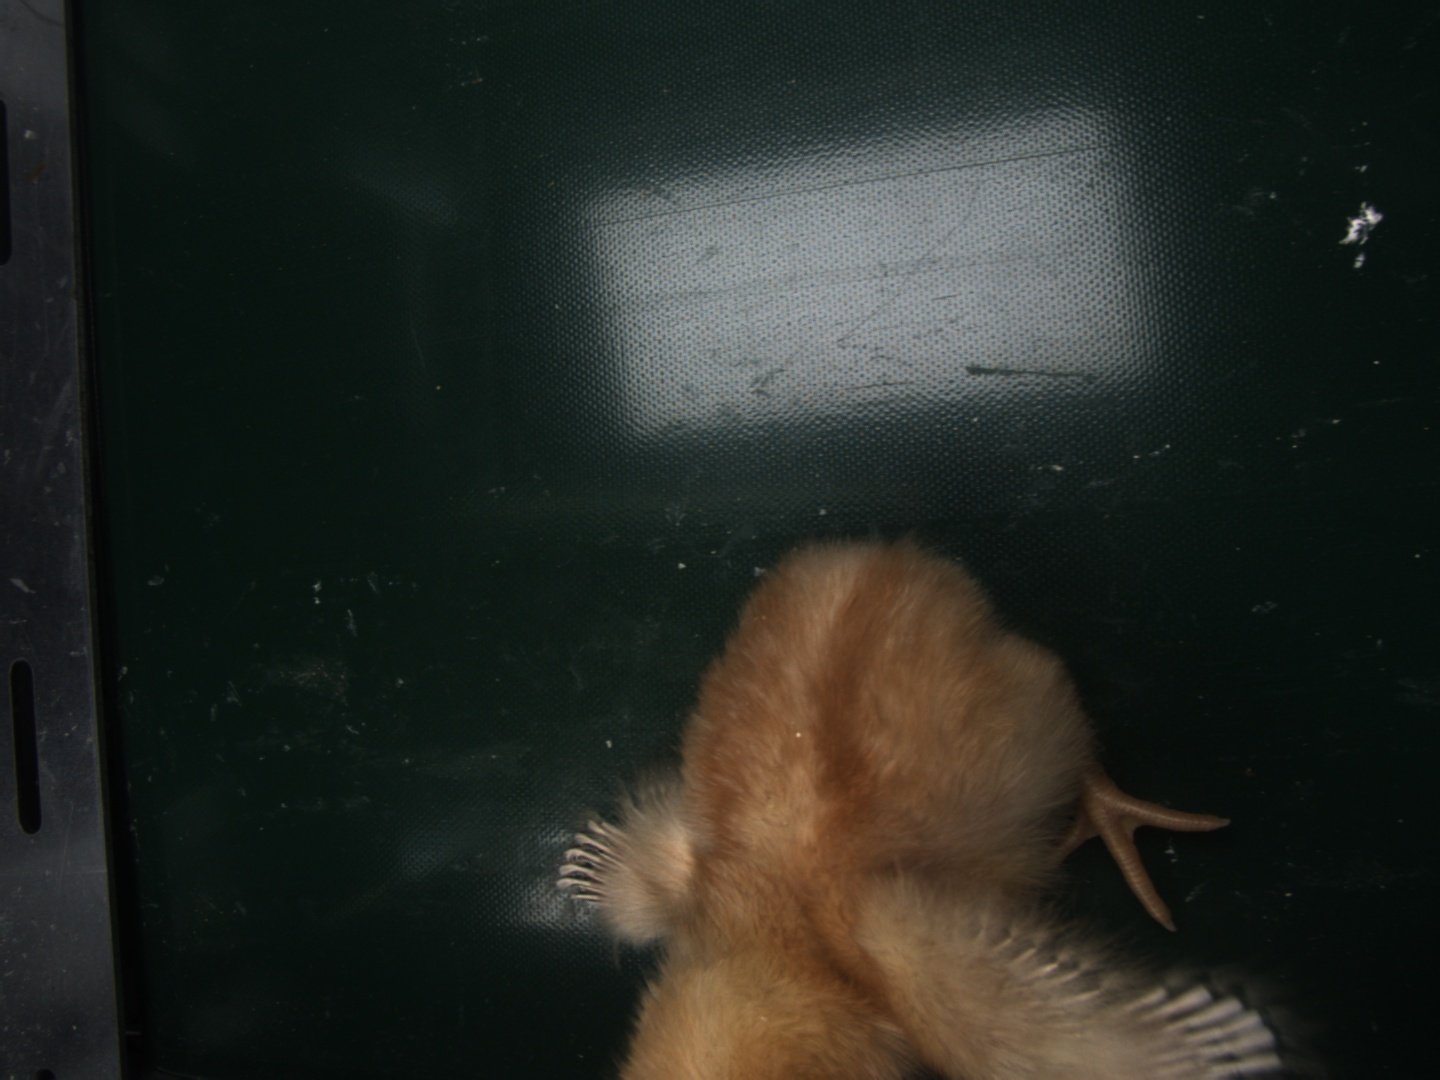female: (552, 815, 629, 903)
